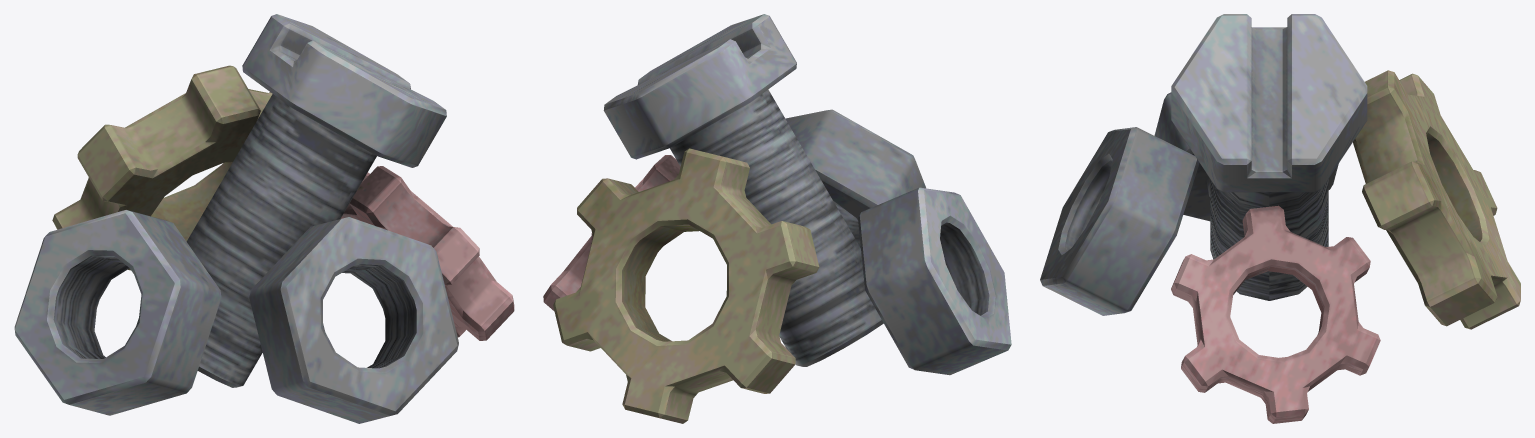
Rendered from bolts1.glb.
The picture shows the model from 3 angles, left to right: view 1: azimuth 30°, elevation 25°; view 2: azimuth 150°, elevation 25°; view 3: azimuth 270°, elevation 25°; orthographic projection. The views are drawn at different scales.
Parts seen in each view (by area): view 1: nutsAndBolts; view 2: nutsAndBolts; view 3: nutsAndBolts.
Boxes of the visible parts, bbox=[...] form: nutsAndBolts: bbox=[14, 14, 514, 423]; nutsAndBolts: bbox=[543, 14, 1011, 423]; nutsAndBolts: bbox=[1040, 14, 1520, 423].
Size of the model in its own units: 0.5461 by 0.3943 by 0.5159.
Materials: 1 (1 with a texture image).
